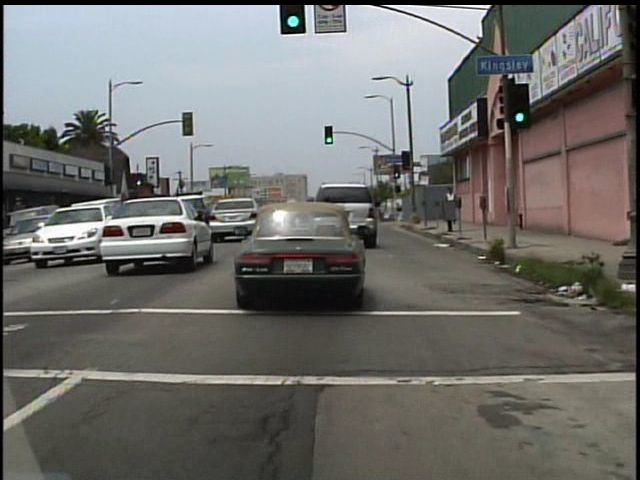person: (445, 185, 459, 224)
